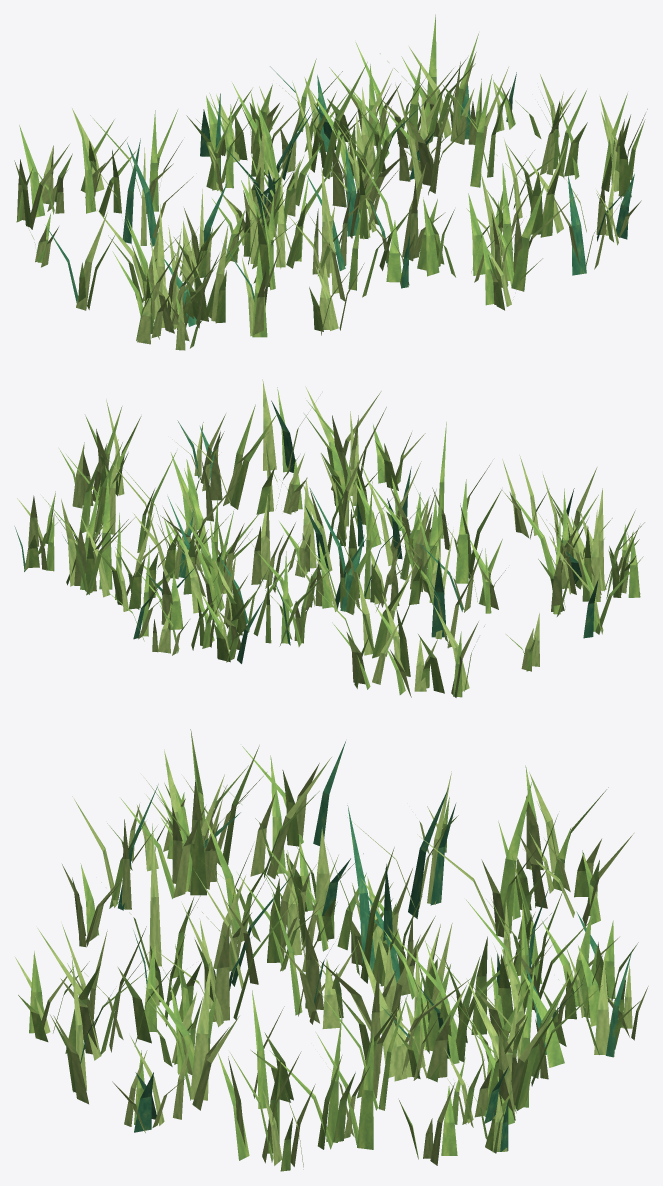
File: MeadowGrassHigh.fbx
The picture shows the model from 3 angles, top to bottom: view 1: azimuth 30°, elevation 25°; view 2: azimuth 150°, elevation 25°; view 3: azimuth 270°, elevation 25°; orthographic projection. The views are drawn at different scales.
Visible parts, largest first — view 1: MeadowGrassHigh; view 2: MeadowGrassHigh; view 3: MeadowGrassHigh.
Boxes of the visible parts, <box> form: MeadowGrassHigh: <box>14,14,647,350</box>; MeadowGrassHigh: <box>14,379,644,697</box>; MeadowGrassHigh: <box>15,729,648,1171</box>.
Size of the model in its own units: 490 by 91.24 by 372.
1 material, 1 textured.
